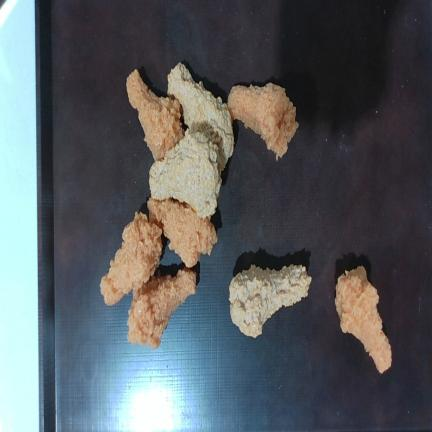chicken: (168, 62, 234, 173), (149, 130, 221, 218), (335, 266, 392, 373), (230, 264, 311, 337), (100, 212, 162, 305), (127, 268, 196, 348), (227, 83, 298, 160), (126, 69, 184, 160), (148, 197, 217, 267)
